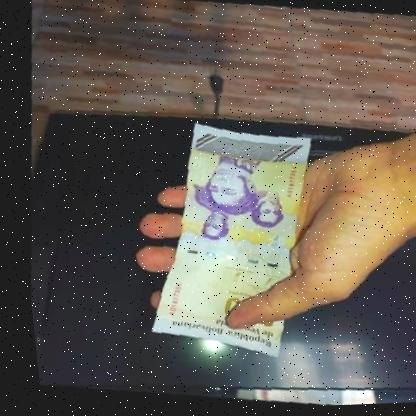two_hundred-front-vef: (123, 114, 327, 366)
